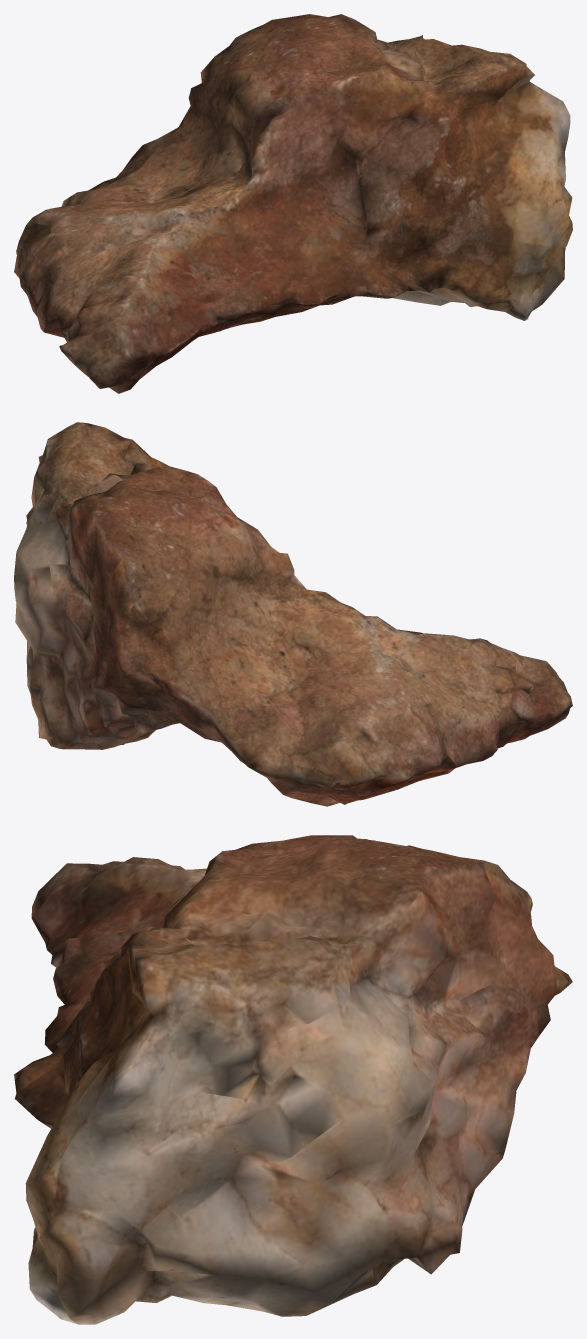
File: stone_01.glb
3 views of the same model, one above another, from view 1: azimuth 30°, elevation 25°; view 2: azimuth 150°, elevation 25°; view 3: azimuth 270°, elevation 25° (orthographic). The views are drawn at different scales.
Parts seen in each view (by area): view 1: stone_01; view 2: stone_01; view 3: stone_01.
Part boxes in pixels (x1,y1,x2,y2): stone_01: (14,14,572,393); stone_01: (14,422,572,806); stone_01: (14,835,572,1324).
Size of the model in its own units: 0.1462 by 0.071 by 0.089.
1 material, 1 textured.
